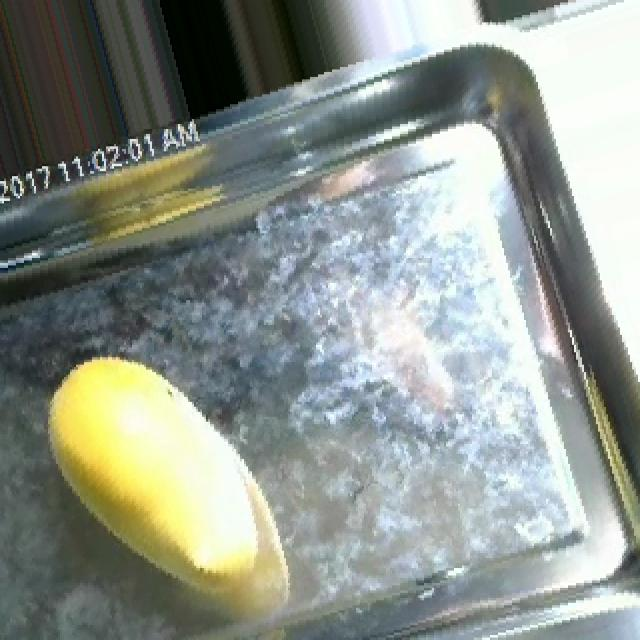fruit: (4, 318, 336, 618)
